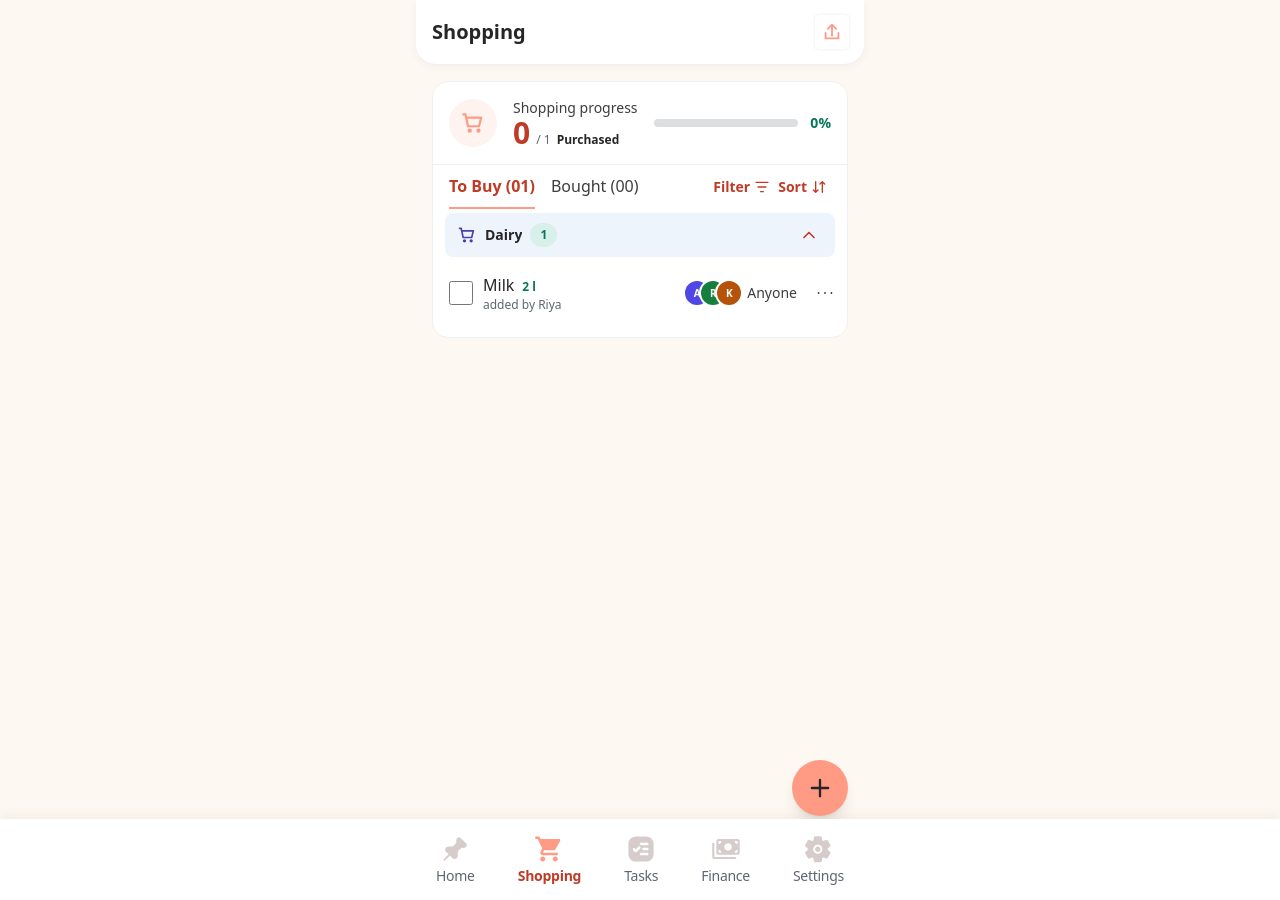
add / edit sheet › adds an item and closes
The image size is (1280, 900).
Click the button named "Add grocery".
click(820, 788)  # box [792,760,848,816]
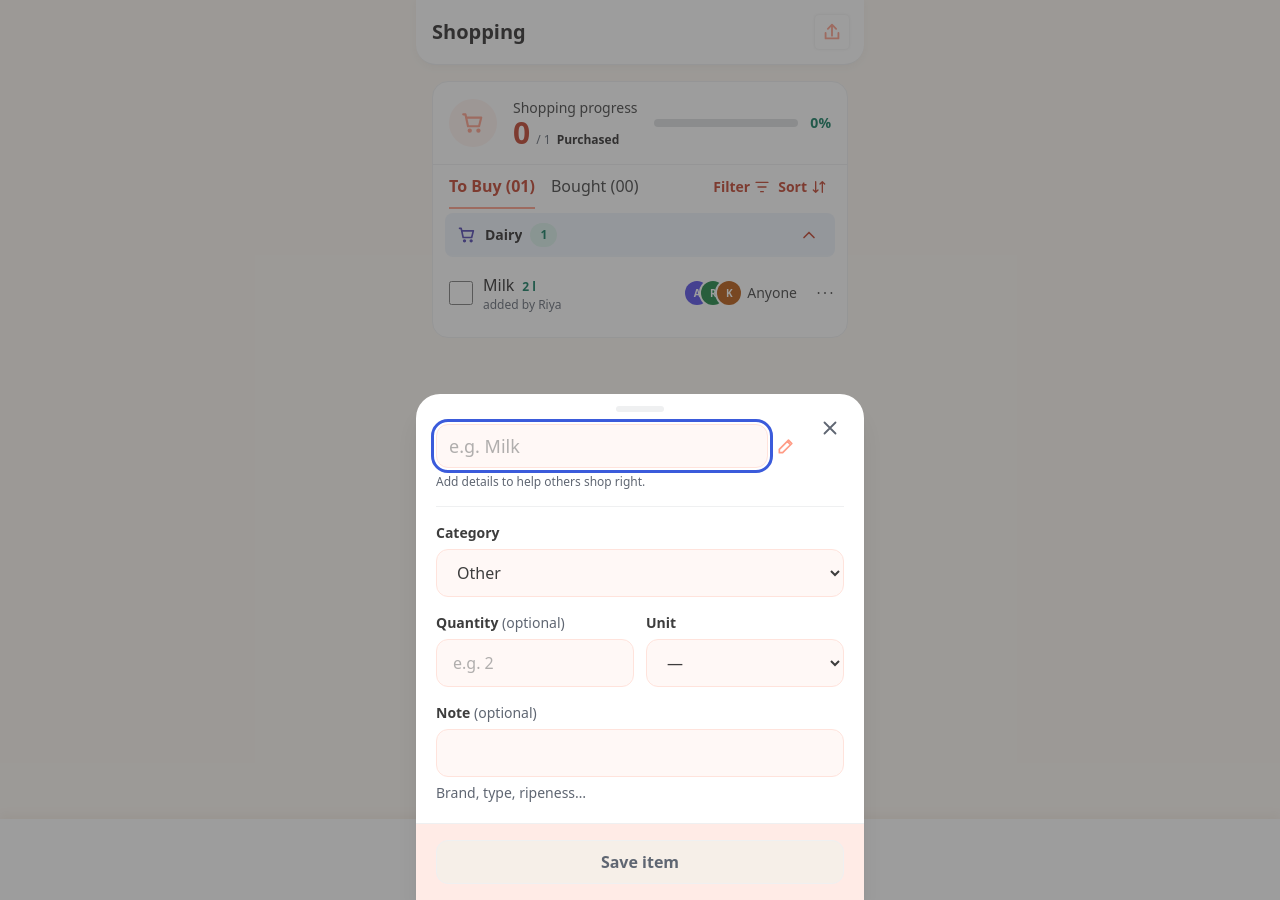
Type "Rice" into the field named "Item name".
click(602, 446); type("Rice")  # box [436,424,768,468]
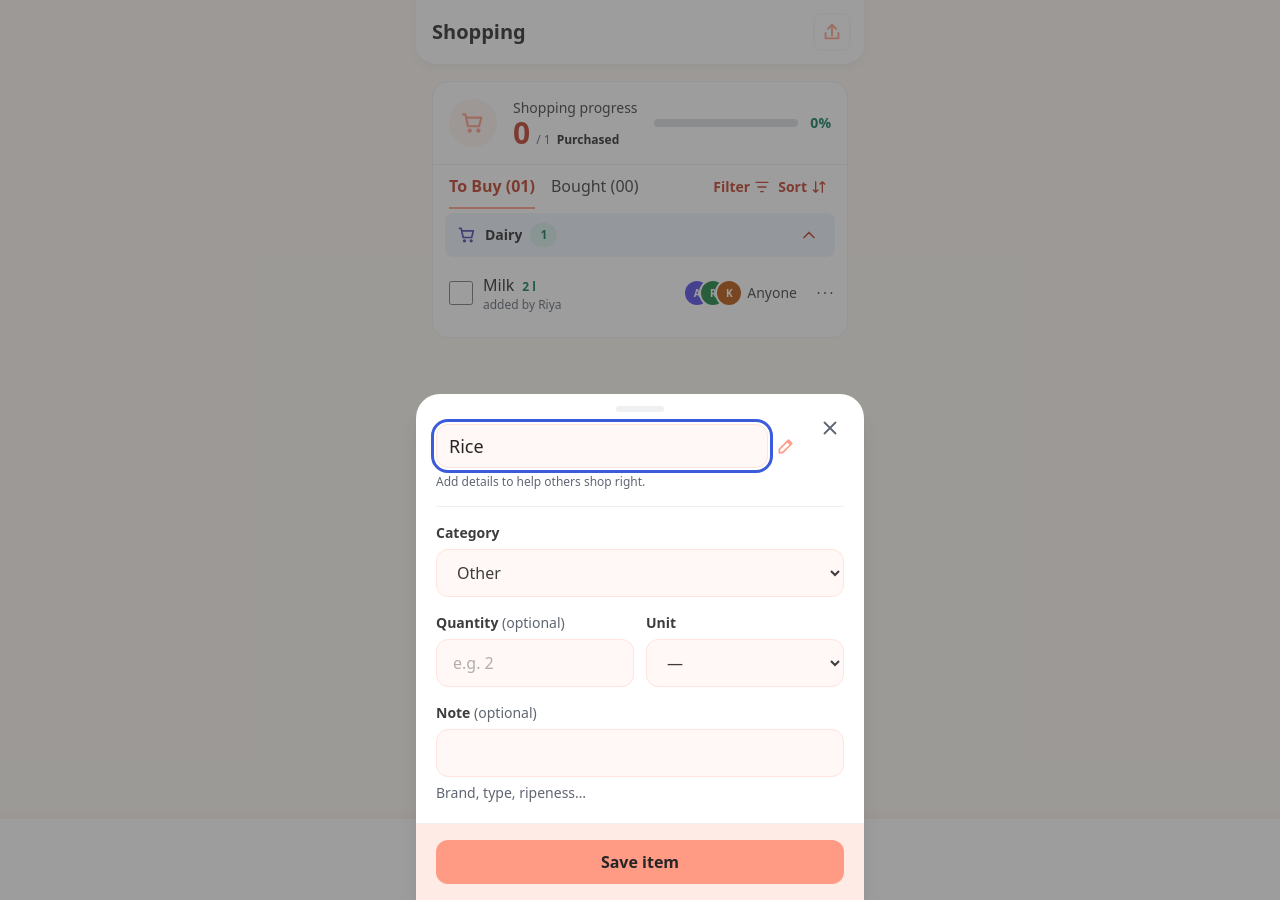
Type "1.5" into the field labelled "Quantity (optional)".
click(535, 663); type("1.5")  # box [436,639,634,687]
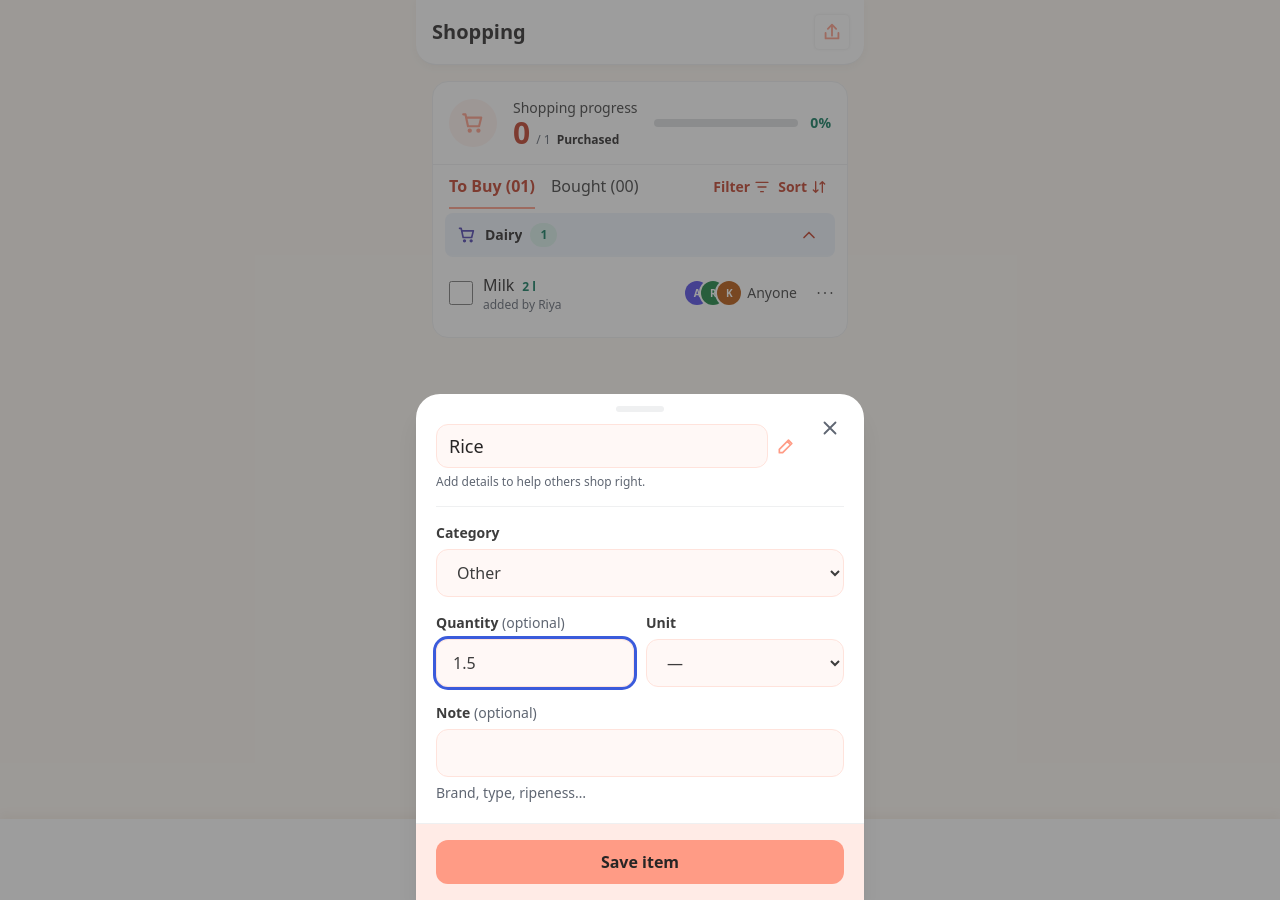
Click the button "Save item".
click(640, 862)  # box [436,840,844,884]
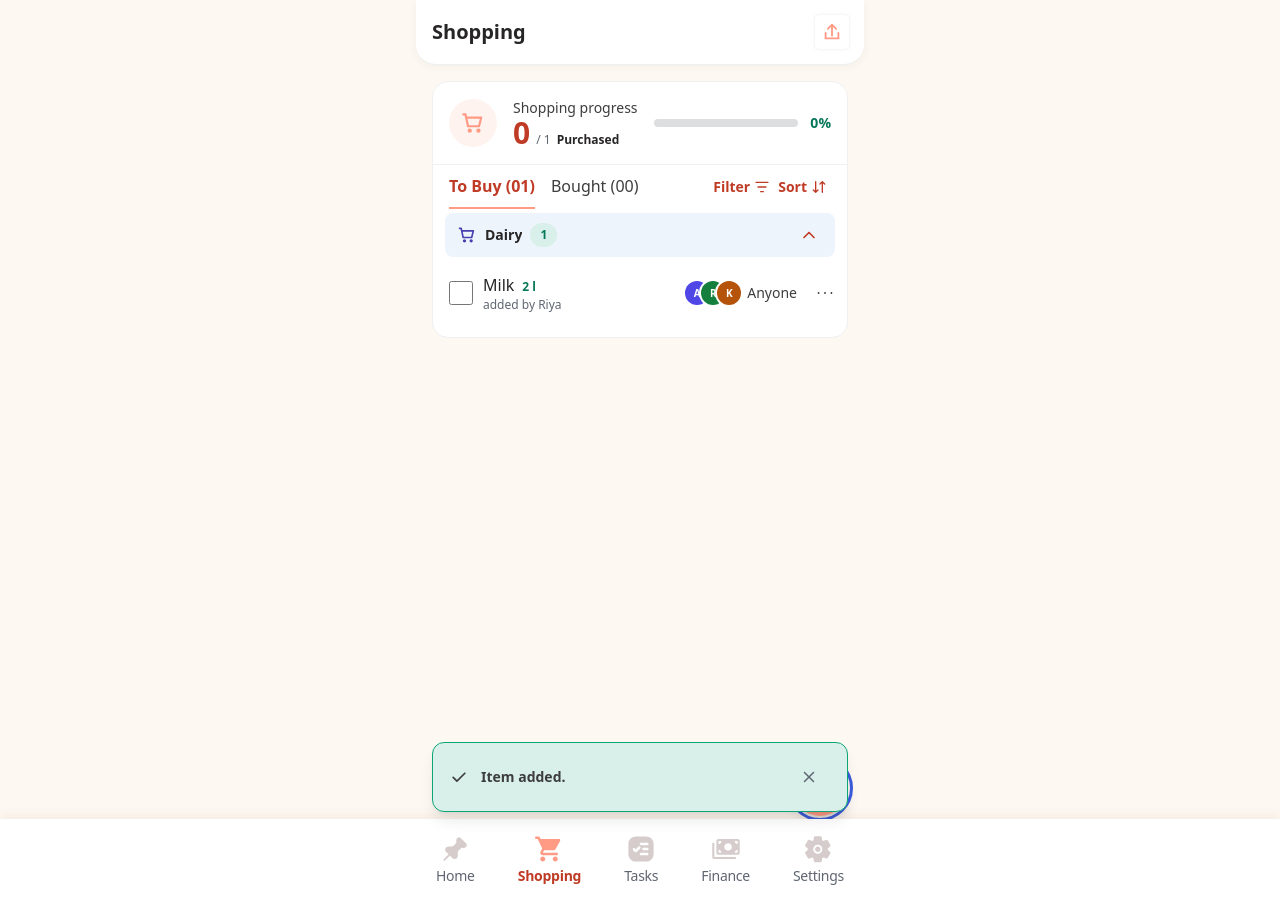
Expected: the text "Item added." is shown, [481,767,566,786]
